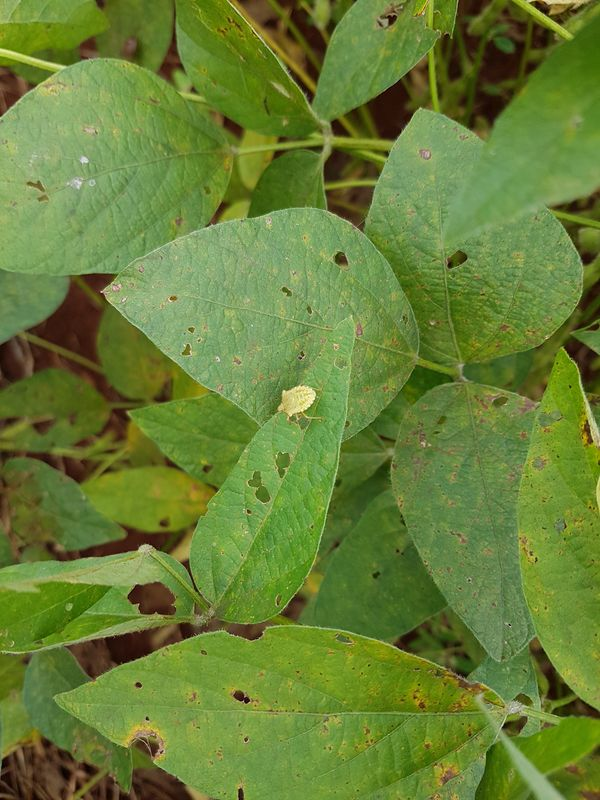Euschistus_heros_ninfa: (269, 379, 330, 434)
